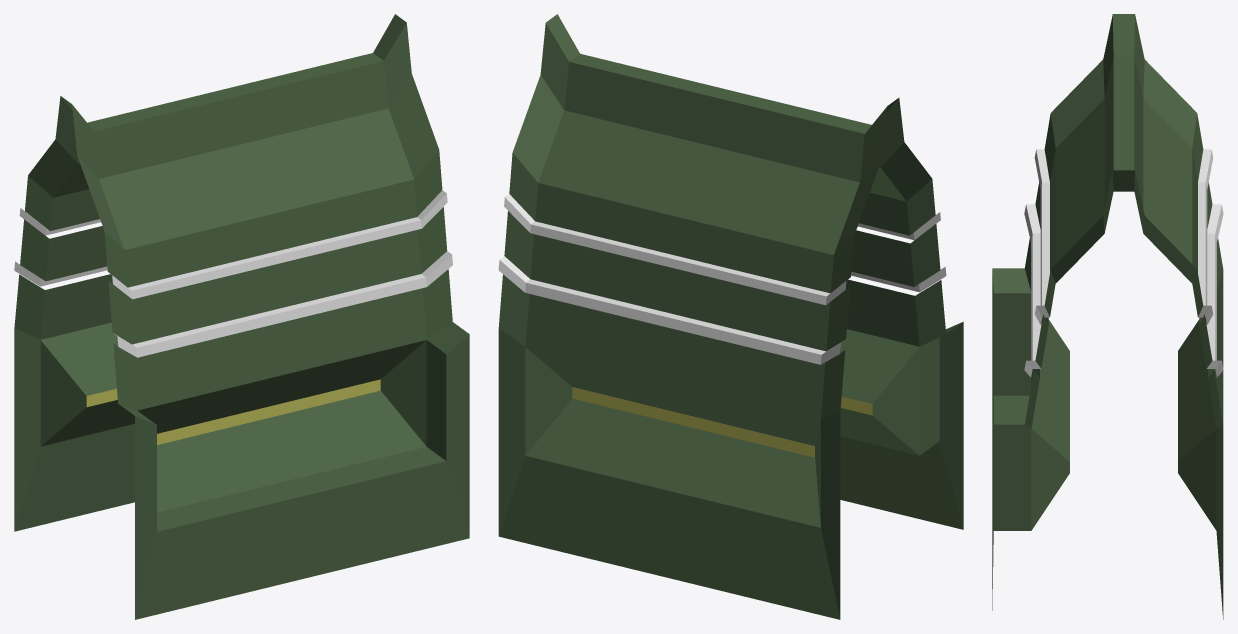
File: Wand_Standard_Hoch.fbx
3 views of the same model, side by side, from view 1: azimuth 30°, elevation 25°; view 2: azimuth 150°, elevation 25°; view 3: azimuth 270°, elevation 25° (orthographic). The views are drawn at different scales.
Visible parts, largest first — view 1: Wand_Standard_Hoch; view 2: Wand_Standard_Hoch; view 3: Wand_Standard_Hoch.
Part boxes in pixels (x1,y1,x2,y2): Wand_Standard_Hoch: (14,14,469,619); Wand_Standard_Hoch: (498,14,963,619); Wand_Standard_Hoch: (992,14,1223,619).
Size of the model in its own units: 100 by 134 by 62.51.
